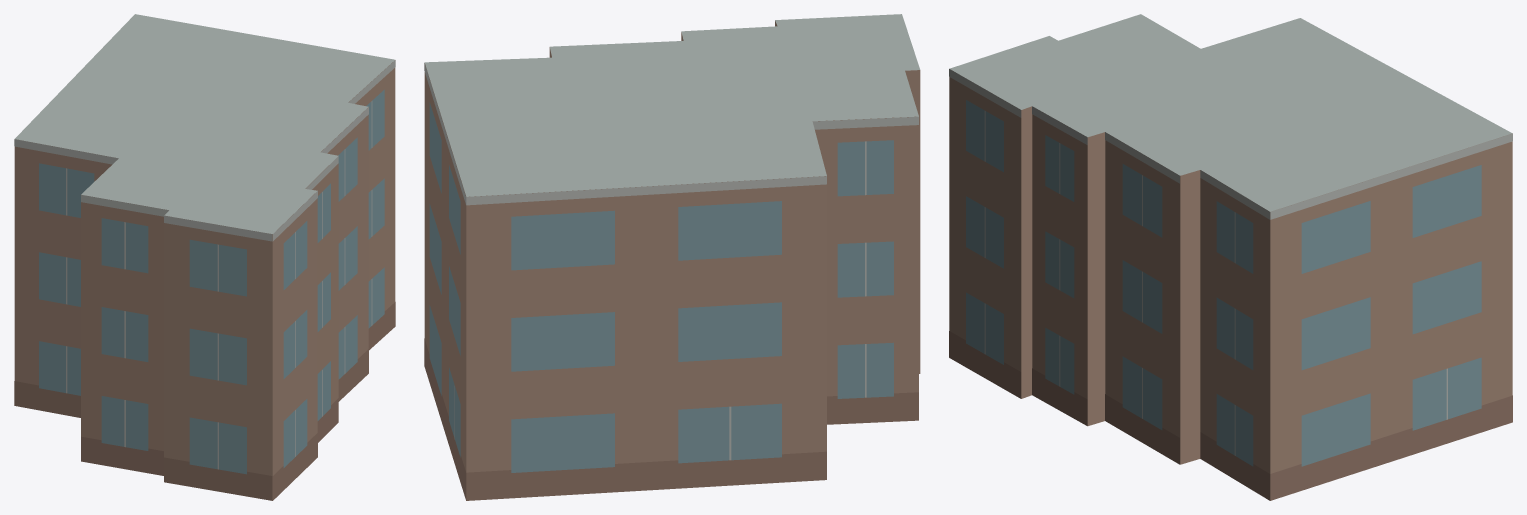
File: survey-upis-32498391.glb
The picture shows the model from 3 angles, left to right: view 1: azimuth 30°, elevation 25°; view 2: azimuth 150°, elevation 25°; view 3: azimuth 270°, elevation 25°; orthographic projection. The views are drawn at different scales.
Parts seen in each view (by area): view 1: survey-upis-32498391.tmp; view 2: survey-upis-32498391.tmp; view 3: survey-upis-32498391.tmp.
Boxes of the visible parts, <box> form: survey-upis-32498391.tmp: <box>14,14,395,500</box>; survey-upis-32498391.tmp: <box>424,14,920,500</box>; survey-upis-32498391.tmp: <box>949,14,1512,500</box>.
Size of the model in its own units: 12.86 by 8.75 by 15.47.
